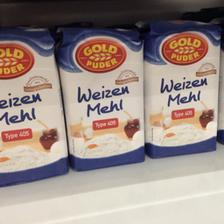Mehl: (54, 22, 144, 170), (142, 15, 220, 159), (0, 30, 70, 186)
